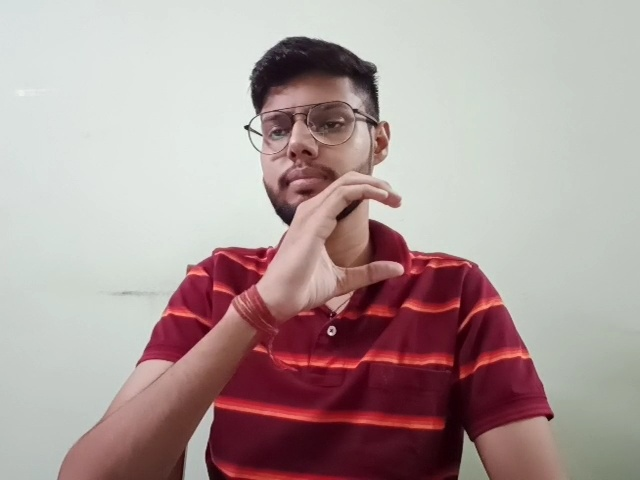C: (265, 172, 405, 307)
